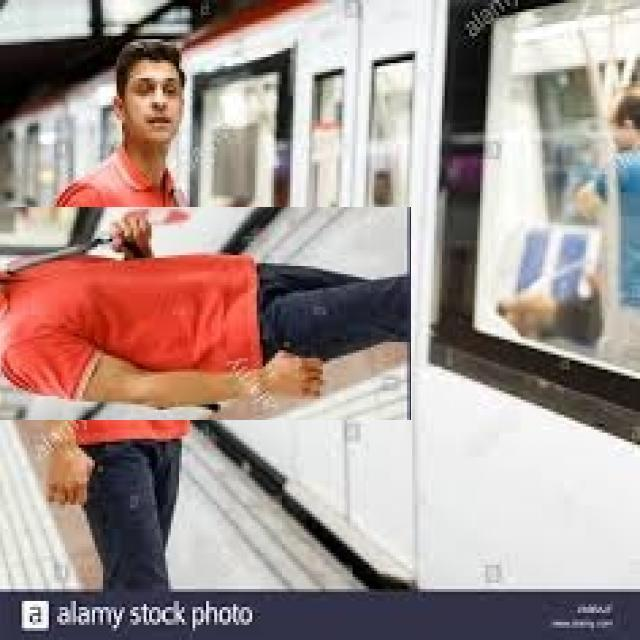NotFall: (0, 126, 413, 492)
